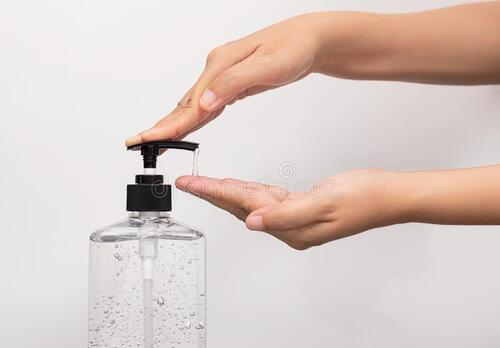sanitizer: (89, 144, 213, 347)
